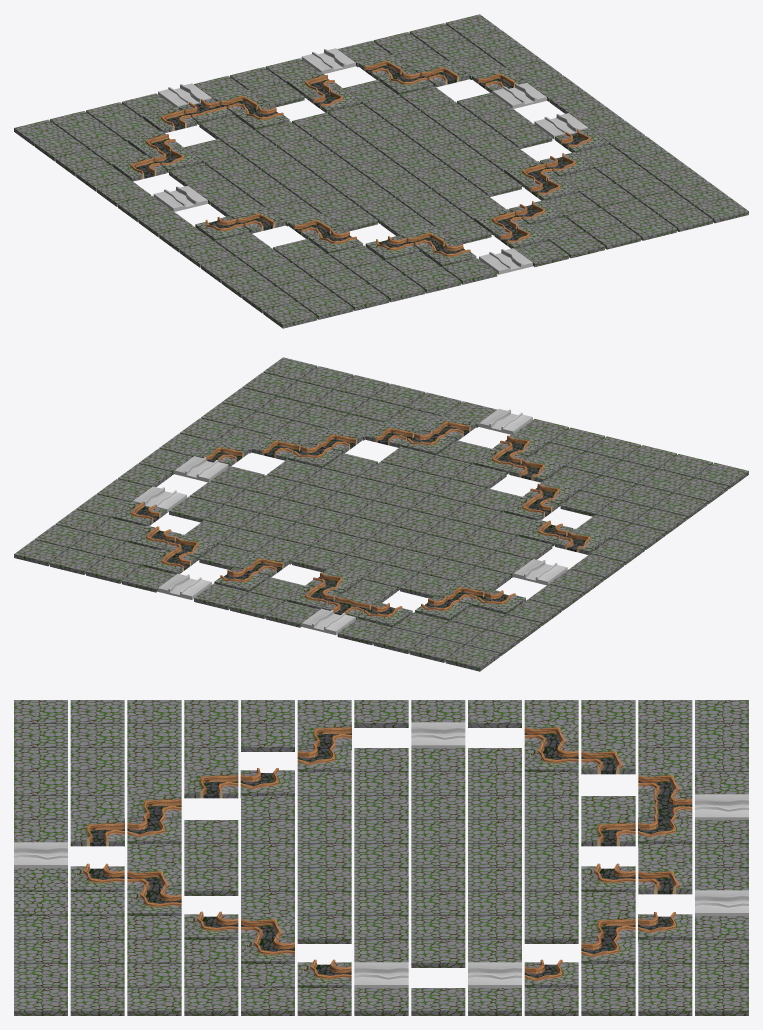
The model's file is FullPuzzle.fbx.
3 renders of one model, top to bottom at view 1: azimuth 30°, elevation 25°; view 2: azimuth 150°, elevation 25°; view 3: azimuth 270°, elevation 25°, orthographic. The views are drawn at different scales.
Visible parts, largest first — view 1: Blank_123, L_Shape_25, Straight_4, L_Shape, T_Shape; view 2: Blank_123, L_Shape_25, Straight_4, L_Shape, T_Shape; view 3: Blank_123, L_Shape_25, Straight_4, L_Shape, T_Shape.
Boxes of the visible parts, <box> form: Blank_123: <box>14,14,748,328</box>; L_Shape_25: <box>112,54,593,267</box>; Straight_4: <box>153,48,588,274</box>; L_Shape: <box>555,128,609,152</box>; T_Shape: <box>178,98,232,124</box>; Blank_123: <box>14,357,748,671</box>; L_Shape_25: <box>112,415,608,628</box>; Straight_4: <box>133,409,567,635</box>; L_Shape: <box>195,441,249,466</box>; T_Shape: <box>322,593,376,619</box>; Blank_123: <box>14,700,748,1015</box>; L_Shape_25: <box>70,722,692,987</box>; Straight_4: <box>14,722,748,987</box>; L_Shape: <box>297,959,351,987</box>; T_Shape: <box>638,792,692,820</box>.
Bounding box in the file's own units: 2720 × 41.4 × 2720.
